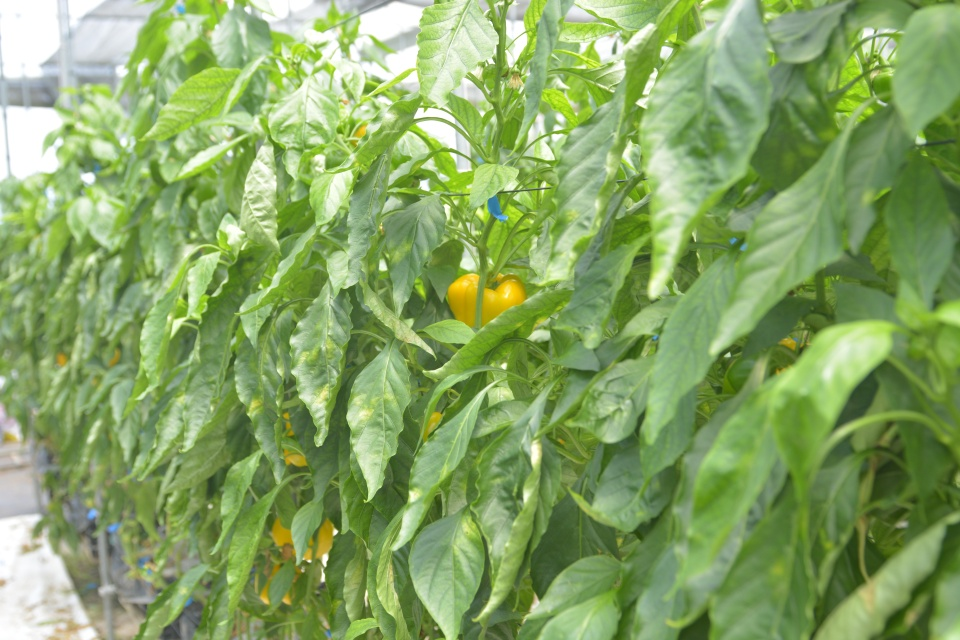flower: (506, 70, 525, 92)
fruit: (445, 268, 528, 330), (270, 509, 334, 562), (252, 553, 308, 608), (280, 410, 311, 468)
immature: (871, 67, 897, 104)
